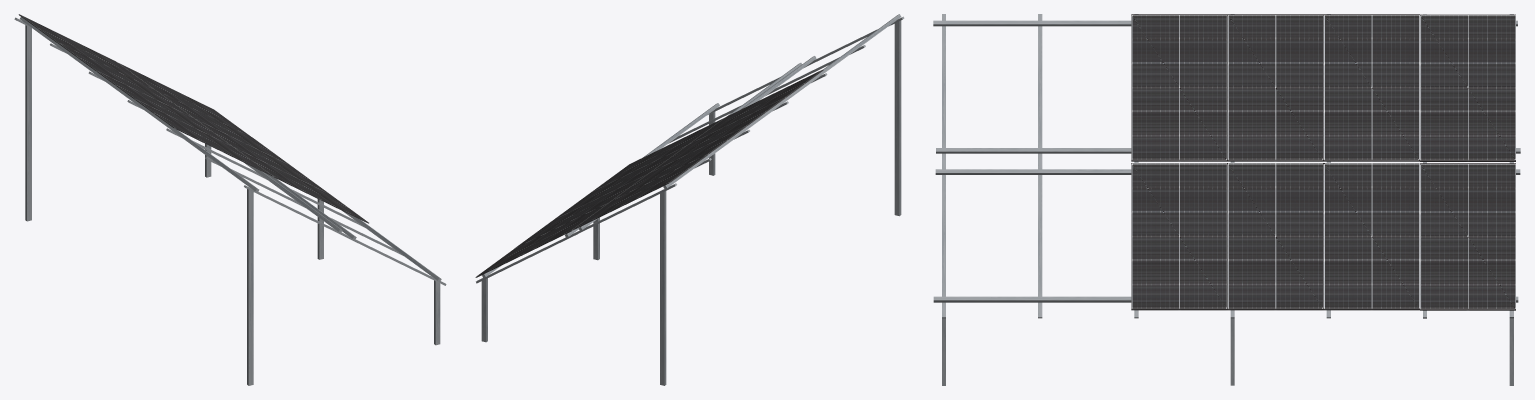
Rendered from solar_panel_ground_8.glb.
3 renders of one model, left to right at view 1: azimuth 30°, elevation 25°; view 2: azimuth 150°, elevation 25°; view 3: azimuth 270°, elevation 25°, orthographic. The views are drawn at different scales.
Parts seen in each view (by area): view 1: konstrukcja_metal.025, konstrukcja_metal.009, panel.008, panel.003, konstrukcja_metal.014, panel.007, panel.006, panel.005, panel.002, panel.001, panel, konstrukcja_metal.001 (+2 smaller); view 2: konstrukcja_metal.025, konstrukcja_metal.009, panel.005, panel, konstrukcja_metal.014, panel.006, panel.007, panel.008, panel.001, panel.003, panel.002, konstrukcja_metal.004 (+2 smaller); view 3: panel.003, panel.006, panel.007, panel.008, panel.001, panel.002, panel, panel.005, konstrukcja_metal.001, konstrukcja_metal.014, konstrukcja_metal.003, konstrukcja_metal.002 (+4 smaller).
Boxes of the visible parts, x1,y1,x2,y2 form: konstrukcja_metal.025: (247,189,253,385); konstrukcja_metal.009: (25,25,31,221); panel.008: (135,99,270,175); panel.003: (234,147,368,223); konstrukcja_metal.014: (20,17,259,192); panel.007: (96,71,231,145); panel.006: (57,42,192,117); panel.005: (18,14,152,88); panel.002: (195,119,329,193); panel.001: (156,90,290,165); panel: (117,62,250,136); konstrukcja_metal.001: (342,211,441,281); konstrukcja_metal.025: (894,20,901,216); konstrukcja_metal.009: (660,191,666,385); panel.005: (573,154,707,229); panel: (475,202,609,277); konstrukcja_metal.014: (663,14,901,189); panel.006: (612,126,746,200); panel.007: (651,97,785,171); panel.008: (690,69,823,143); panel.001: (514,174,647,248); panel.003: (592,117,725,191); panel.002: (554,146,685,219); konstrukcja_metal.004: (481,278,487,342); panel.003: (1131,163,1227,310); panel.006: (1323,14,1419,161); panel.007: (1227,14,1323,161); panel.008: (1131,14,1227,161); panel.001: (1323,163,1419,310); panel.002: (1227,163,1323,310); panel: (1420,163,1515,310); panel.005: (1420,14,1515,161); konstrukcja_metal.001: (933,296,1518,302); konstrukcja_metal.014: (933,20,1517,26); konstrukcja_metal.003: (935,169,1520,174); konstrukcja_metal.002: (936,148,1520,153).
Size of the model in its own units: 6.8 by 6.68 by 13.84.
2 materials, 2 textured.
